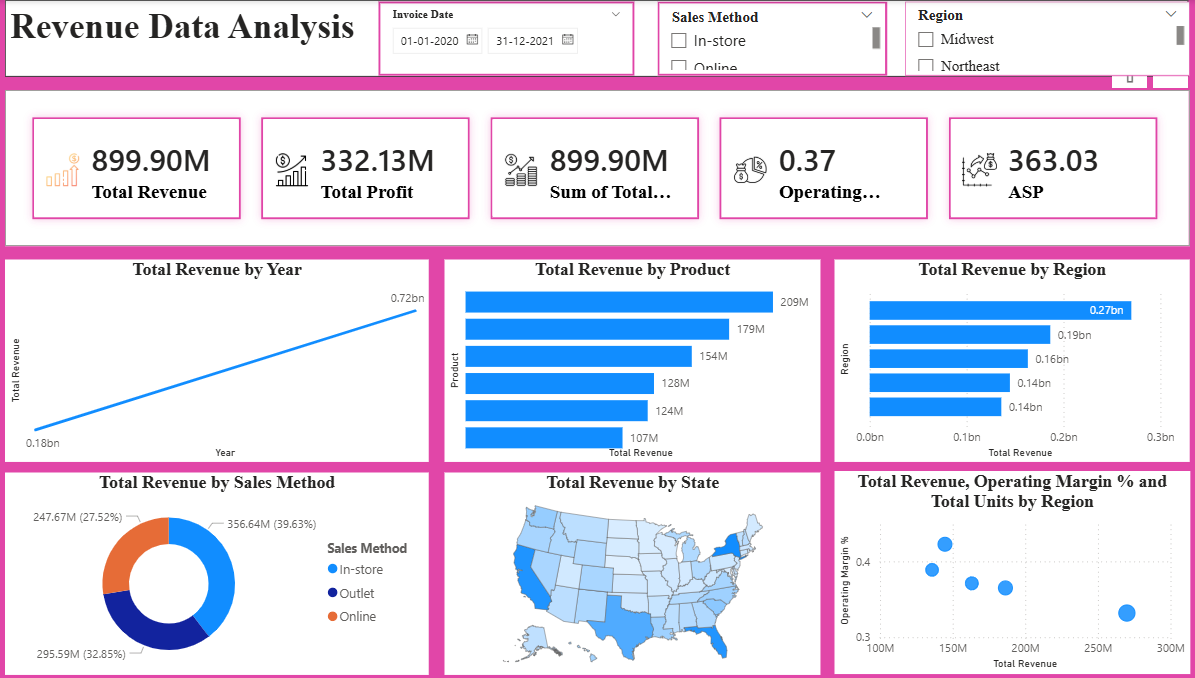

What the dashboard file says about the page in this screenshot:
{"tool":"powerbi","page":{"name":"Mini Project 3","canvas":[1280,720],"ordinal":0},"visuals":[{"type":"textbox","box":[9.9,0,1254.9,81.4],"z":0},{"type":"cardVisual","fields":{"Data":["Revenue.Total Revenue","Revenue.Total Profit","Sum(Revenue.Total Sales)","Revenue.Operating Margin %","Revenue.ASP"]},"box":[10.1,95.2,1255.7,166.1],"z":1000},{"type":"lineChart","fields":{"Category":["Revenue.Invoice Date.Variation.Date Hierarchy.Year","Revenue.Invoice Date.Variation.Date Hierarchy.Quarter","Revenue.Invoice Date.Variation.Date Hierarchy.Month","Revenue.Invoice Date.Variation.Date Hierarchy.Day"],"Y":["Revenue.Total Revenue"]},"box":[10.1,275.4,449.6,214.7],"z":2000},{"type":"barChart","fields":{"Y":["Revenue.Total Revenue"],"Category":["Revenue.Product"]},"box":[475.9,275.4,399,214.7],"z":3000},{"type":"barChart","fields":{"Category":["Revenue.Region"],"Y":["Revenue.Total Revenue"]},"box":[889.1,275.4,376.7,214.7],"z":4000},{"type":"donutChart","fields":{"Category":["Revenue.Sales Method"],"Y":["Revenue.Total Revenue"]},"box":[10.1,500.3,449.6,214.7],"z":5000},{"type":"shapeMap","fields":{"Value":["Revenue.Total Revenue"],"Category":["Revenue.State"]},"box":[475.9,500.3,399,214.7],"z":6000},{"type":"scatterChart","fields":{"X":["Revenue.Total Revenue"],"Y":["Revenue.Operating Margin %"],"Size":["Revenue.Total Units"],"Category":["Revenue.Region"]},"box":[889,500,377,215],"z":7000},{"type":"slicer","fields":{"Values":["Revenue.Invoice Date"]},"box":[405.1,2,271.4,79],"z":8000},{"type":"slicer","fields":{"Values":["Revenue.Sales Method"]},"box":[700.8,2,243,79],"z":9000},{"type":"slicer","fields":{"Values":["Revenue.Region"]},"box":[964.1,2,301.8,79],"z":10000}]}

Visuals, with their boxes in screenshot pixels (x1, y1, x2, y2), scaled from the page's 1280x720 canvas onto the 1195x678 screenshot:
textbox: l=9, t=0, r=1181, b=77
cardVisual - Revenue.Total Revenue x Revenue.Total Profit: l=9, t=90, r=1182, b=246
lineChart - Revenue.Invoice Date.Variation.Date Hierarchy.Year x Revenue.Invoice Date.Variation.Date Hierarchy.Quarter: l=9, t=259, r=429, b=462
barChart - Revenue.Total Revenue x Revenue.Product: l=444, t=259, r=817, b=462
barChart - Revenue.Region x Revenue.Total Revenue: l=830, t=259, r=1182, b=462
donutChart - Revenue.Sales Method x Revenue.Total Revenue: l=9, t=471, r=429, b=673
shapeMap - Revenue.Total Revenue x Revenue.State: l=444, t=471, r=817, b=673
scatterChart - Revenue.Total Revenue x Revenue.Operating Margin %: l=830, t=471, r=1182, b=673
slicer - Revenue.Invoice Date: l=378, t=2, r=632, b=76
slicer - Revenue.Sales Method: l=654, t=2, r=881, b=76
slicer - Revenue.Region: l=900, t=2, r=1182, b=76
